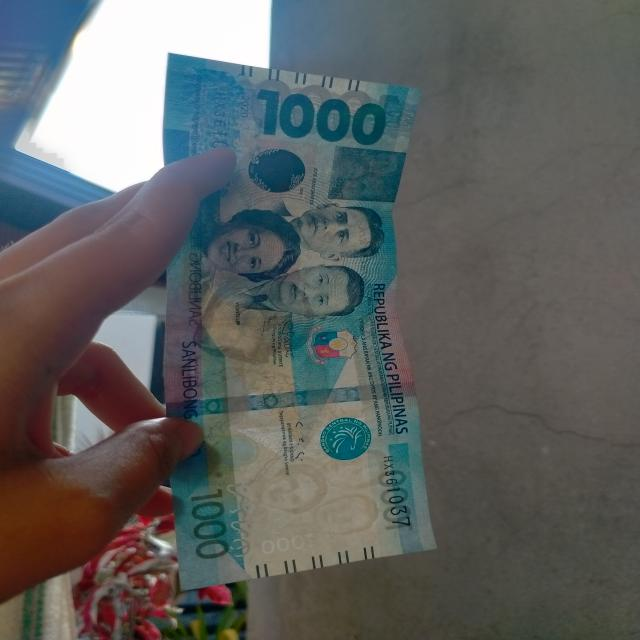concealed_value: (325, 145, 411, 203)
optically_variable_device: (239, 136, 314, 204)
security_thread: (164, 380, 418, 420)
see_through_mark: (219, 476, 259, 564)
value_watermark: (258, 531, 320, 556)
watermark: (254, 442, 391, 542)
